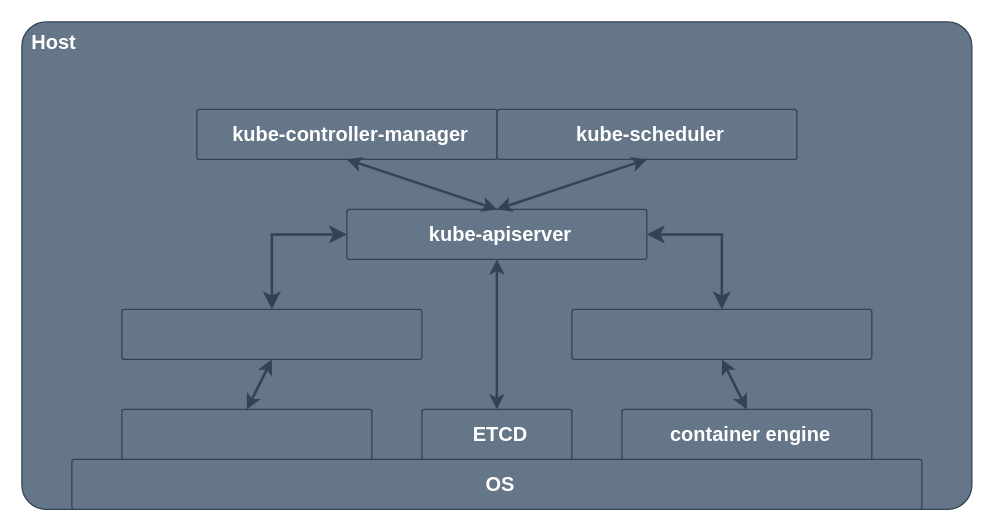
Some shapes in this 994 by 531 pixel diagram are drawn without their labels. The shapes that lost their labels are listed below. From the top down, each one's centre as x and y in pixels, then its label:
At pixel 271 333: "kube-proxy".
At pixel 721 333: "kubelet".
At pixel 246 433: "iptables".
